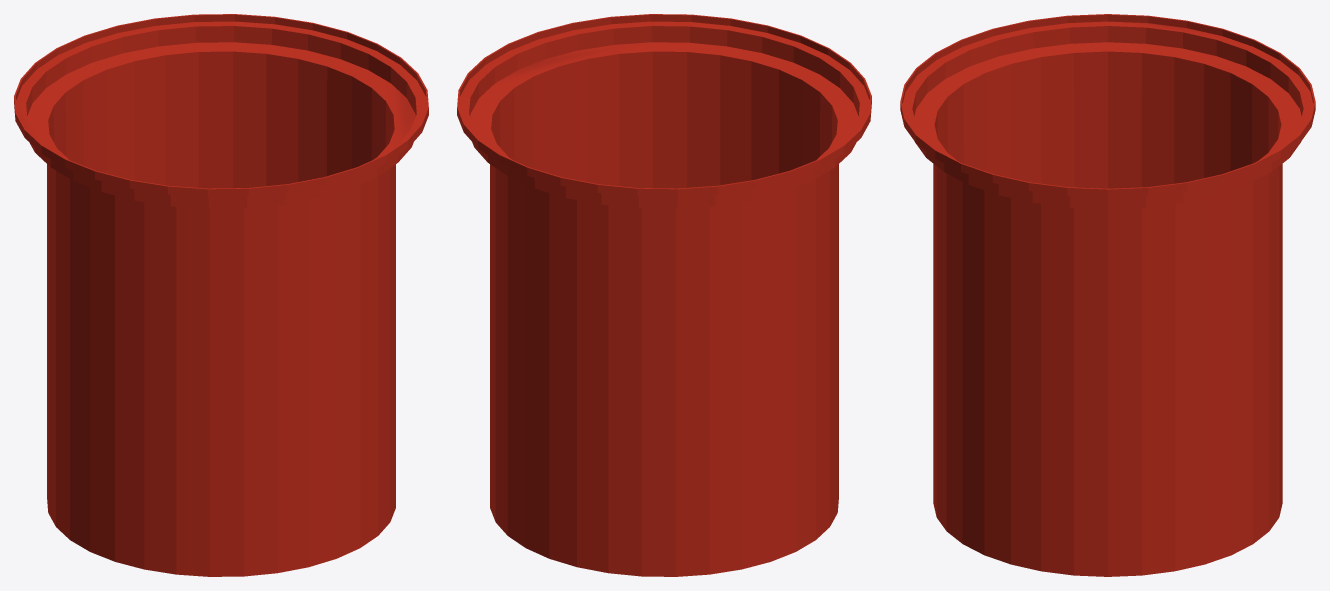
The model's file is Bin.fbx.
3 views of the same model, side by side, from view 1: azimuth 30°, elevation 25°; view 2: azimuth 150°, elevation 25°; view 3: azimuth 270°, elevation 25° (orthographic).
Parts seen in each view (by area): view 1: Cylinder; view 2: Cylinder; view 3: Cylinder.
Boxes of the visible parts, x1=… form: Cylinder: x1=14, y1=14, x2=428, y2=576; Cylinder: x1=457, y1=14, x2=871, y2=576; Cylinder: x1=900, y1=14, x2=1315, y2=576.
Bounding box in the file's own units: 238 × 254 × 238.
